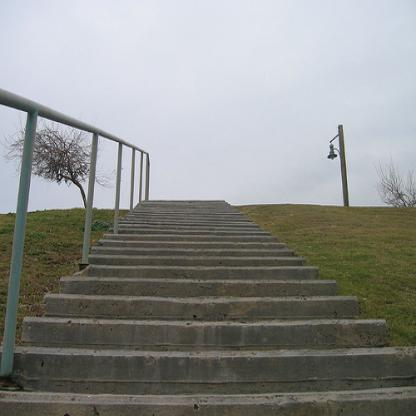stairs: (110, 234, 278, 416)
